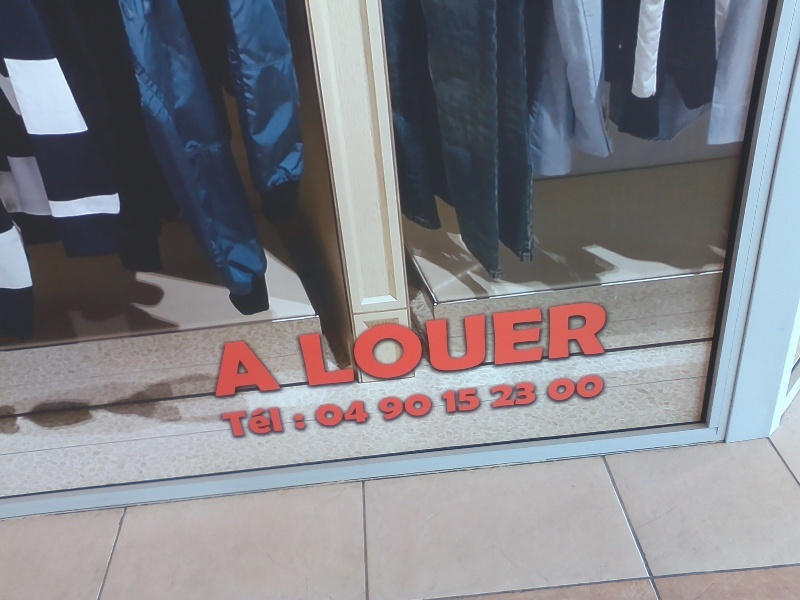text: (593, 300, 609, 388), (305, 300, 320, 388), (321, 300, 336, 388), (337, 300, 352, 388), (353, 300, 368, 388), (369, 300, 384, 388), (385, 300, 400, 388), (401, 300, 416, 388), (417, 300, 432, 388), (433, 300, 448, 388), (449, 300, 464, 388), (465, 300, 480, 388), (481, 300, 496, 388), (497, 300, 512, 388), (513, 300, 528, 388), (529, 300, 544, 388), (545, 300, 560, 388), (561, 300, 576, 388), (577, 300, 592, 388), (209, 337, 224, 399), (225, 337, 240, 399), (241, 337, 256, 399), (257, 337, 272, 399), (273, 337, 283, 399), (297, 300, 304, 388), (225, 405, 240, 439), (241, 405, 256, 439), (257, 405, 272, 439), (385, 392, 400, 424), (401, 392, 416, 424), (417, 392, 432, 424), (561, 373, 576, 405), (577, 373, 592, 405), (321, 400, 336, 429), (337, 400, 352, 429), (353, 400, 368, 429), (497, 381, 512, 410), (513, 381, 528, 410), (449, 387, 464, 415), (465, 387, 480, 415), (547, 373, 560, 405), (273, 405, 285, 439), (593, 373, 605, 405), (529, 381, 539, 410), (488, 381, 496, 410), (292, 413, 304, 432), (377, 392, 384, 424), (440, 387, 448, 415), (313, 400, 320, 429), (219, 405, 224, 439), (433, 392, 435, 424), (207, 337, 208, 399), (305, 413, 308, 432), (369, 400, 370, 429), (481, 387, 482, 415)
